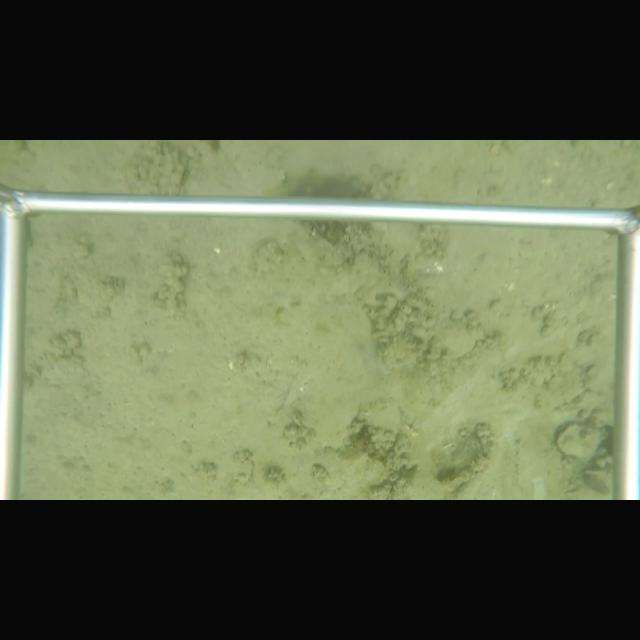Oyster-Closed: (556, 422, 604, 460)
